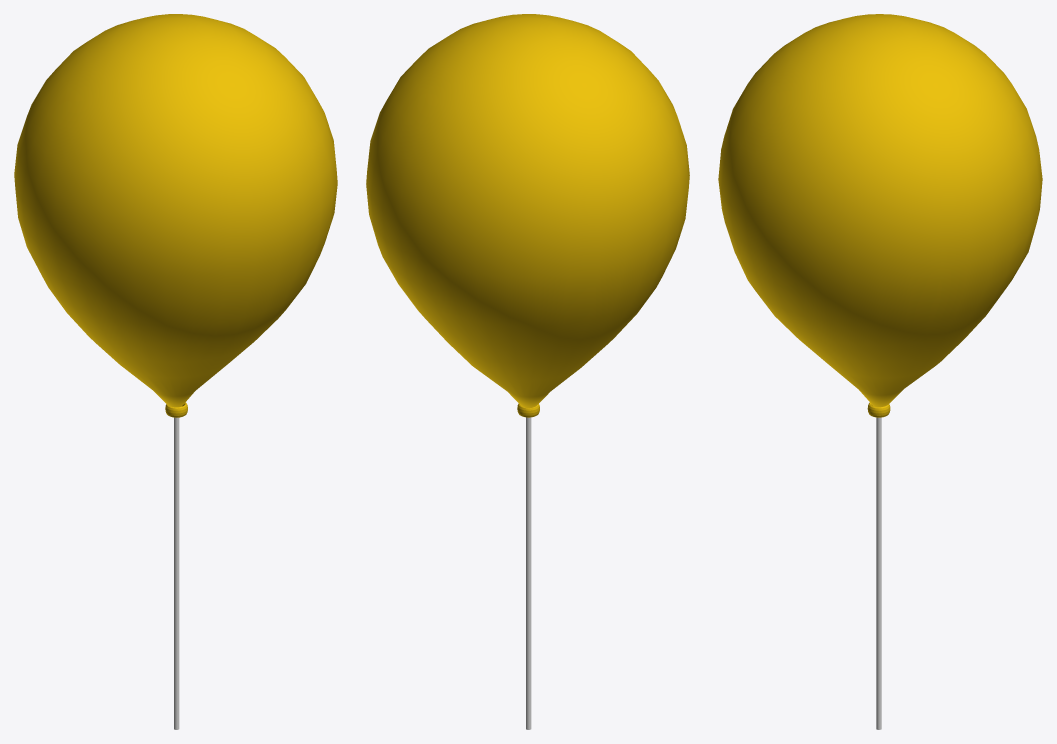
The model's file is balloon_yellow_1.glb.
The picture shows the model from 3 angles, left to right: view 1: azimuth 30°, elevation 25°; view 2: azimuth 150°, elevation 25°; view 3: azimuth 270°, elevation 25°; orthographic projection.
Parts seen in each view (by area): view 1: Sphere.010, Cylinder.010; view 2: Sphere.010, Cylinder.010; view 3: Sphere.010, Cylinder.010.
Part boxes in pixels (x1,y1,x2,y2): Sphere.010: (14,14,337,407); Cylinder.010: (174,417,179,729); Sphere.010: (366,14,689,407); Cylinder.010: (526,417,531,729); Sphere.010: (718,14,1042,407); Cylinder.010: (876,417,881,729).
Bounding box in the file's own units: 2 × 4.76 × 2.
